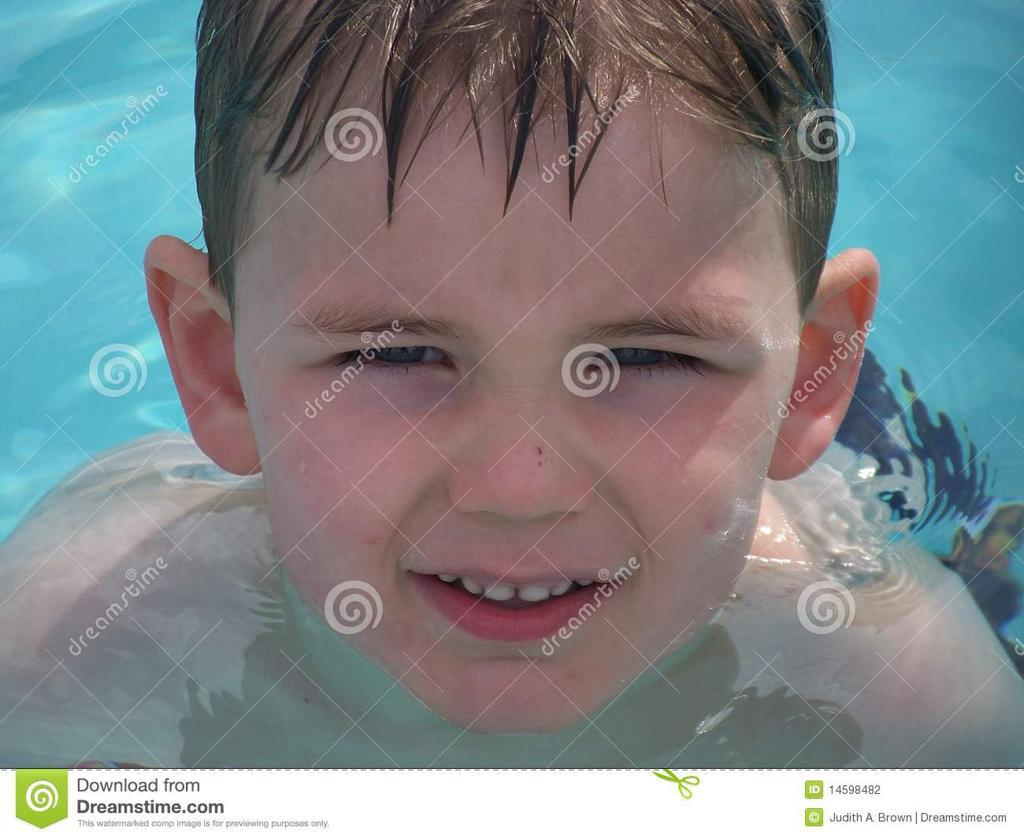face: (231, 155, 795, 721)
